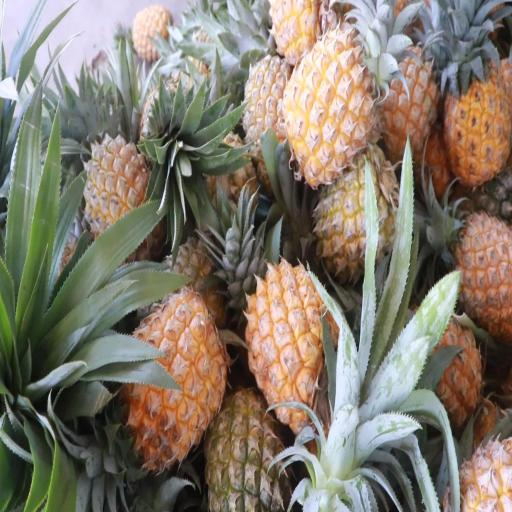------------------------------: (318, 157, 402, 278)
Pineapple - v8 v1: (112, 294, 226, 463), (247, 263, 337, 421), (285, 36, 372, 184), (405, 313, 480, 437), (436, 215, 512, 333), (443, 66, 512, 178), (375, 47, 441, 162), (269, 0, 329, 59)
